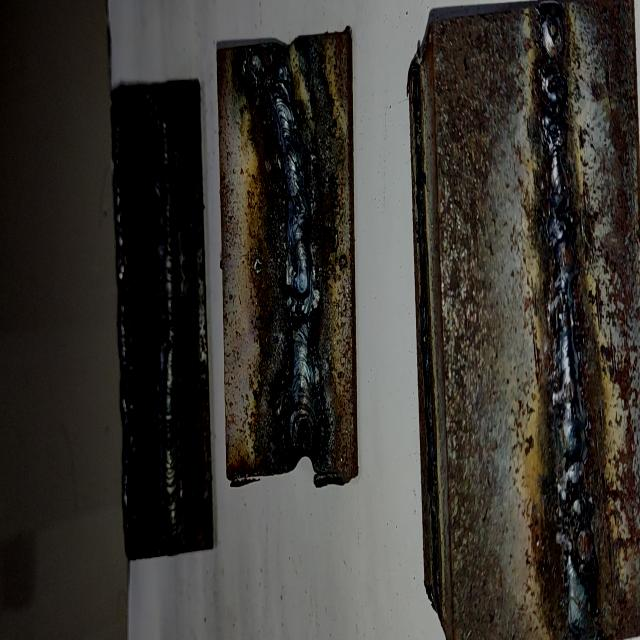Bad Weld: (539, 16, 598, 634), (269, 54, 320, 454)
Defect: (530, 19, 603, 631), (240, 44, 301, 108), (279, 280, 325, 340)
Good Weld: (151, 96, 188, 541)
